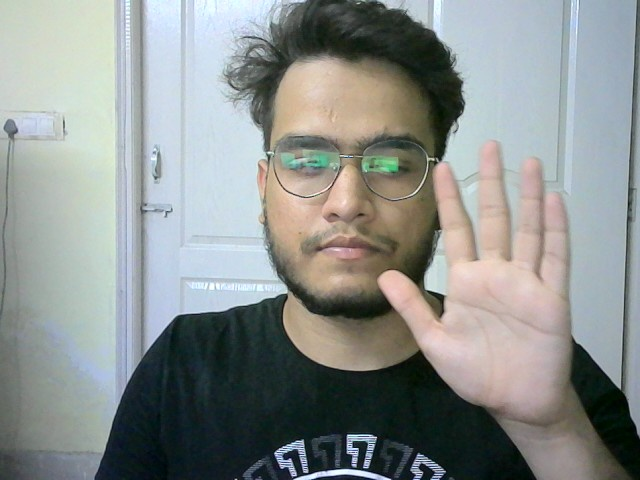Hello: (377, 141, 573, 415)
